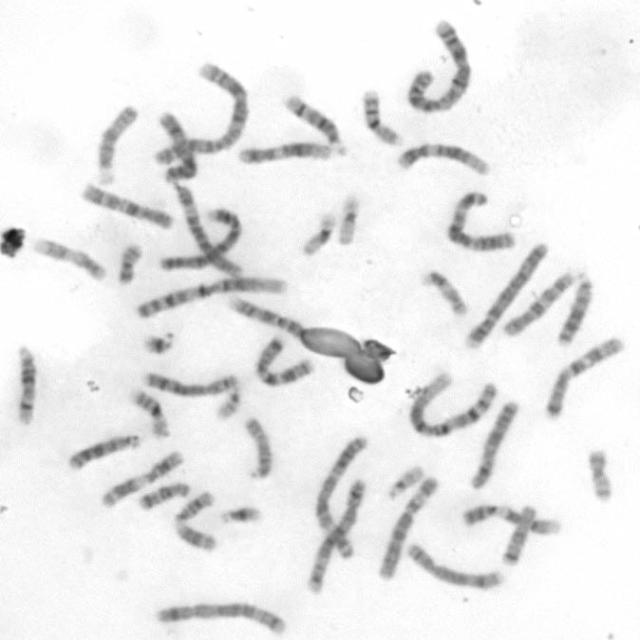A1: (404, 369, 502, 439), (128, 275, 290, 317)
A2: (152, 57, 249, 162), (405, 18, 474, 114)
A3: (308, 433, 369, 564), (445, 192, 515, 252)
B4: (464, 240, 552, 353), (158, 205, 243, 273)
B5: (307, 474, 370, 594), (154, 596, 291, 638)
C10: (498, 269, 578, 337), (77, 183, 176, 233)
C11: (97, 451, 185, 509), (171, 486, 221, 554)
C12: (392, 142, 491, 174), (238, 140, 329, 168)
C6: (375, 474, 440, 585), (172, 184, 239, 274)
C7: (543, 337, 628, 418), (251, 333, 316, 391)
C8: (403, 538, 502, 594), (141, 366, 241, 400)
C9: (455, 500, 562, 537), (226, 294, 305, 339)
D13: (65, 430, 148, 472), (554, 272, 594, 347)
D14: (283, 91, 344, 148), (8, 342, 39, 427)
D15: (90, 102, 140, 186), (240, 414, 274, 484)
E16: (359, 88, 403, 146), (129, 386, 170, 438)
E17: (32, 238, 108, 282), (422, 266, 467, 318)
E18: (496, 505, 538, 570), (136, 480, 193, 512)
F19: (298, 212, 336, 259), (334, 192, 362, 246)
F20: (584, 446, 614, 505), (114, 242, 142, 286)
G21: (138, 330, 178, 358), (217, 503, 263, 527)
G22: (384, 461, 426, 502), (215, 382, 243, 422)
X: (468, 400, 520, 492), (154, 107, 200, 186)
